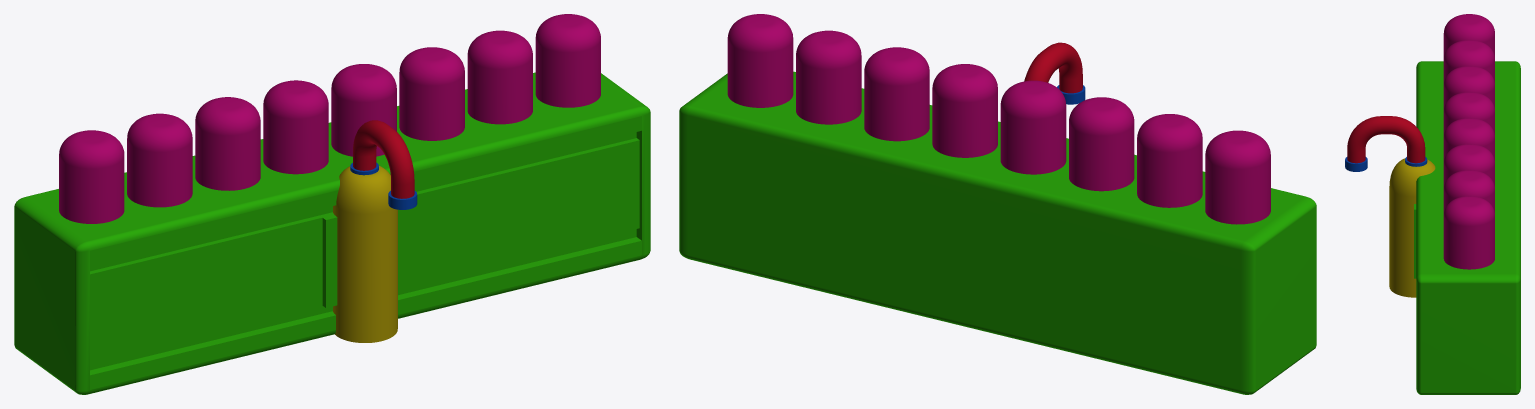
The model's file is SM_DistributeurSolutions.fbx.
The picture shows the model from 3 angles, left to right: view 1: azimuth 30°, elevation 25°; view 2: azimuth 150°, elevation 25°; view 3: azimuth 270°, elevation 25°; orthographic projection. The views are drawn at different scales.
Visible parts, largest first — view 1: polySurface2; view 2: polySurface2; view 3: polySurface2.
Boxes of the visible parts, x1,y1,x2,y2 form: polySurface2: (14, 14, 650, 394); polySurface2: (679, 14, 1316, 394); polySurface2: (1345, 14, 1520, 394).
Bounding box in the file's own units: 16.13 × 6.04 × 5.46.
